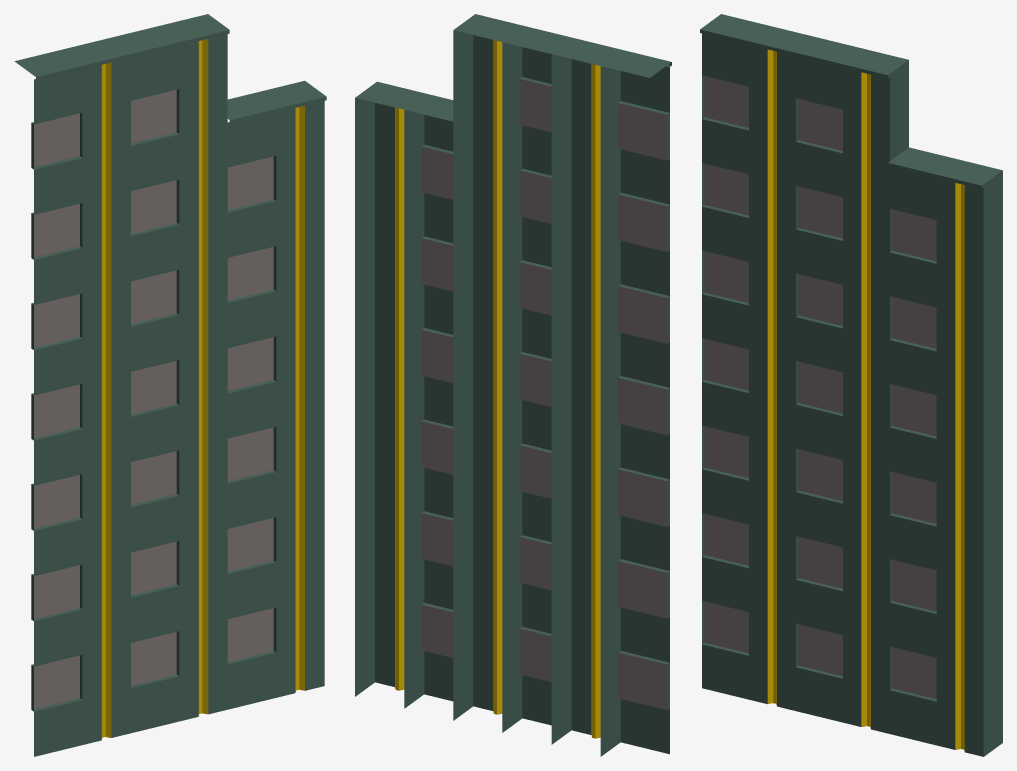
The picture shows the model from 3 angles, left to right: view 1: azimuth 30°, elevation 25°; view 2: azimuth 150°, elevation 25°; view 3: azimuth 330°, elevation 25°; orthographic projection. The views are drawn at different scales.
Visible parts, largest first — view 1: Column.033; view 2: Column.033; view 3: Column.033.
Boxes of the visible parts, bbox=[...] form: Column.033: bbox=[14, 14, 326, 756]; Column.033: bbox=[355, 14, 671, 756]; Column.033: bbox=[700, 14, 1002, 756].
Size of the model in its own units: 1671 by 3742 by 217.
